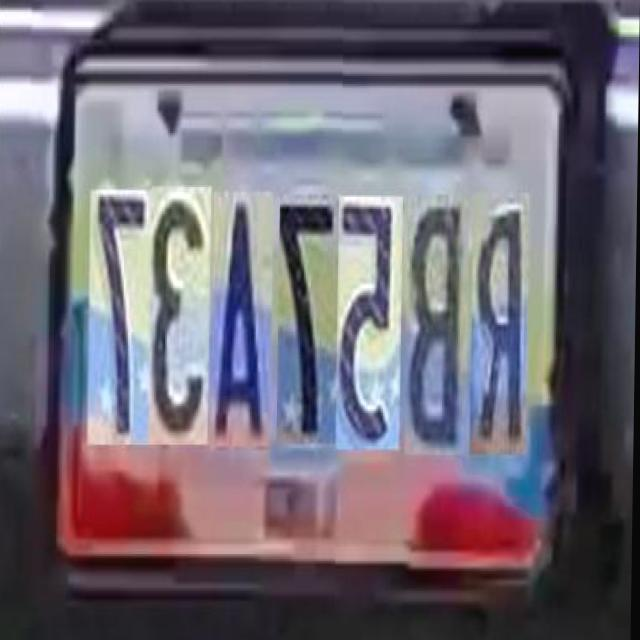3: (149, 186, 213, 446)
5: (337, 194, 404, 449)
7: (88, 190, 153, 446), (279, 194, 341, 444)
a: (211, 191, 275, 447)
b: (405, 193, 471, 454)
r: (470, 190, 531, 453)
